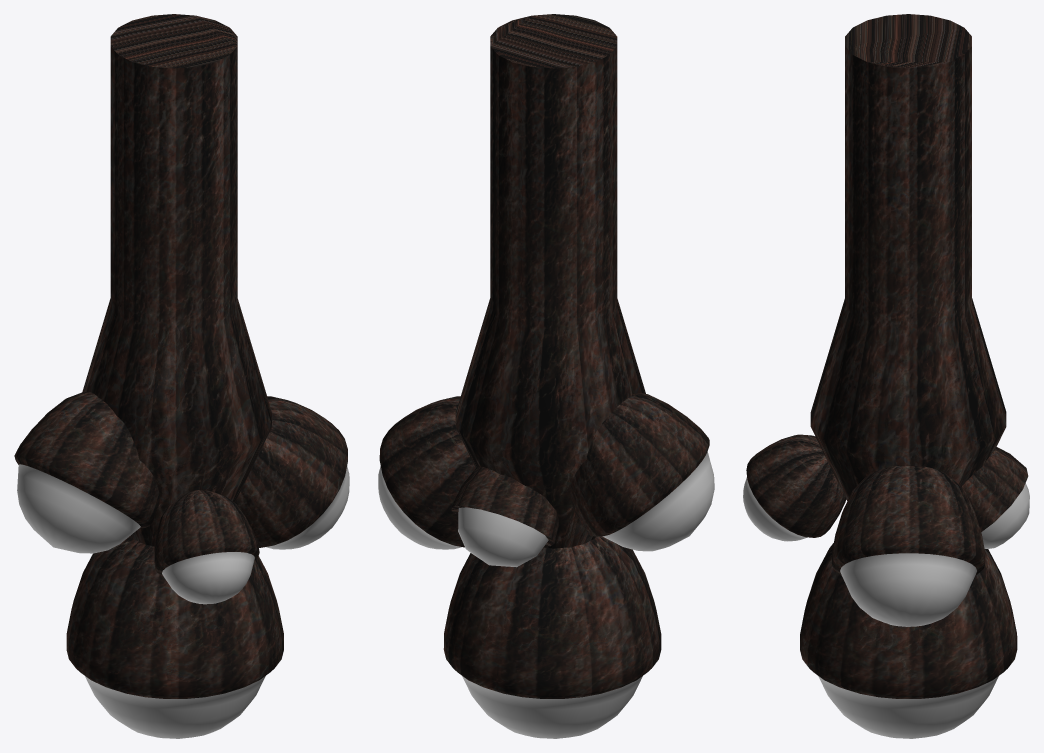
File: TempMangroveLightpods.fbx
3 views of the same model, side by side, from view 1: azimuth 30°, elevation 25°; view 2: azimuth 150°, elevation 25°; view 3: azimuth 270°, elevation 25° (orthographic).
Parts seen in each view (by area): view 1: tempmangroveeyepods; view 2: tempmangroveeyepods; view 3: tempmangroveeyepods.
Boxes of the visible parts, bbox=[...] form: tempmangroveeyepods: bbox=[14, 14, 349, 738]; tempmangroveeyepods: bbox=[378, 14, 714, 738]; tempmangroveeyepods: bbox=[743, 14, 1029, 738].
Size of the model in its own units: 83.08 by 173 by 65.26.
